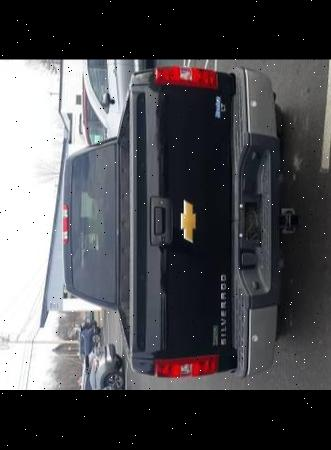Left_Taillight: (153, 353, 216, 379)
Rear_Bumper: (228, 71, 280, 378)
Rear_Windshield: (62, 138, 117, 313)
Right_Taillight: (154, 69, 217, 89)
Tailgate: (131, 71, 236, 378)
